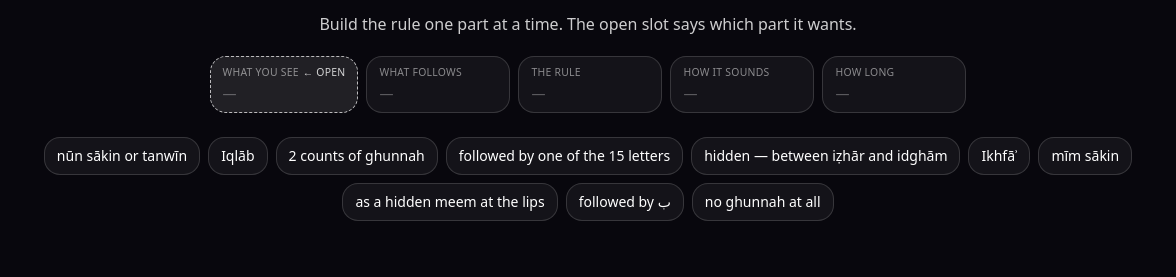
Test case: ConditionBuilder — placing tiles › locks a correct tile into its slot and takes it out of the bank
Click the button "nūn sākin or tanwīn" at (122, 156), box [44, 137, 200, 175]
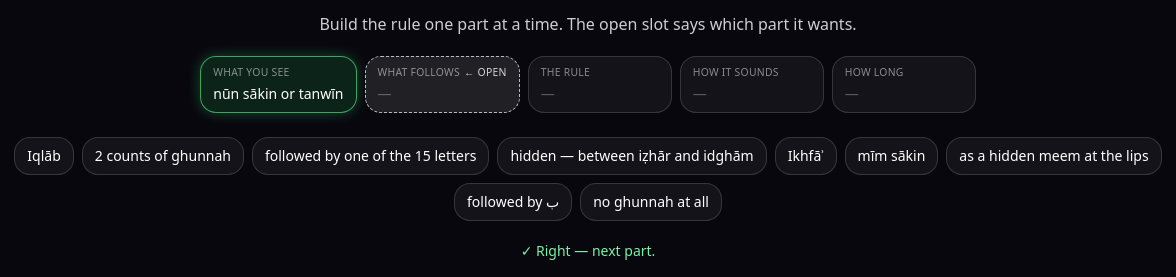
expect the list item "what you see nūn sākin or tanwīn" is shown: met, box [200, 56, 357, 113]
